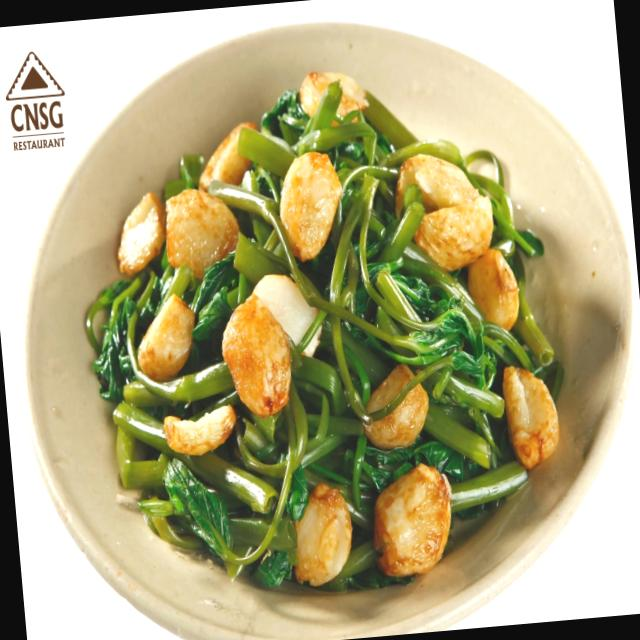rau muong: (85, 73, 564, 593)
